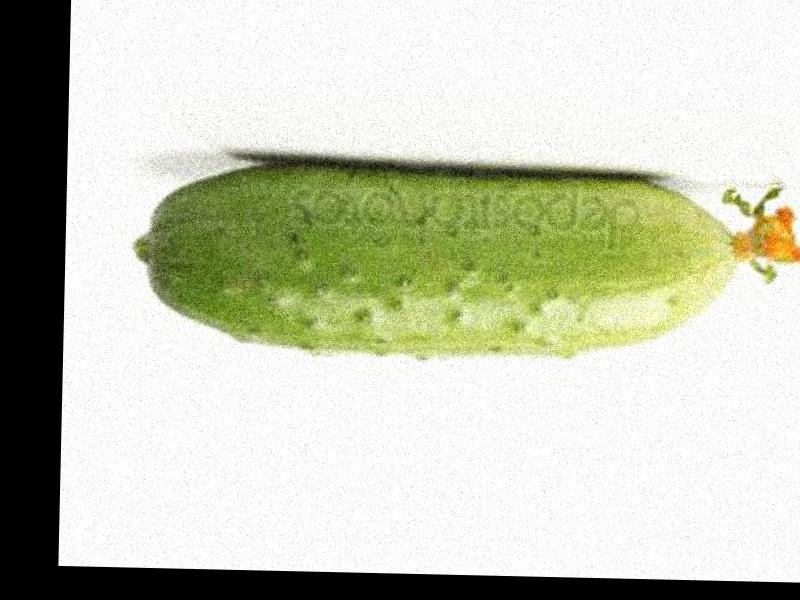Cucumber: (129, 154, 800, 365)
